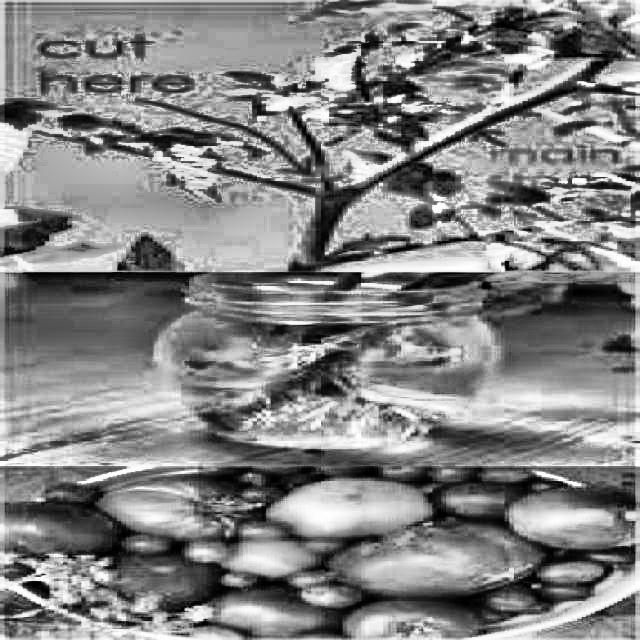plants: (175, 0, 636, 274), (113, 270, 582, 342)
